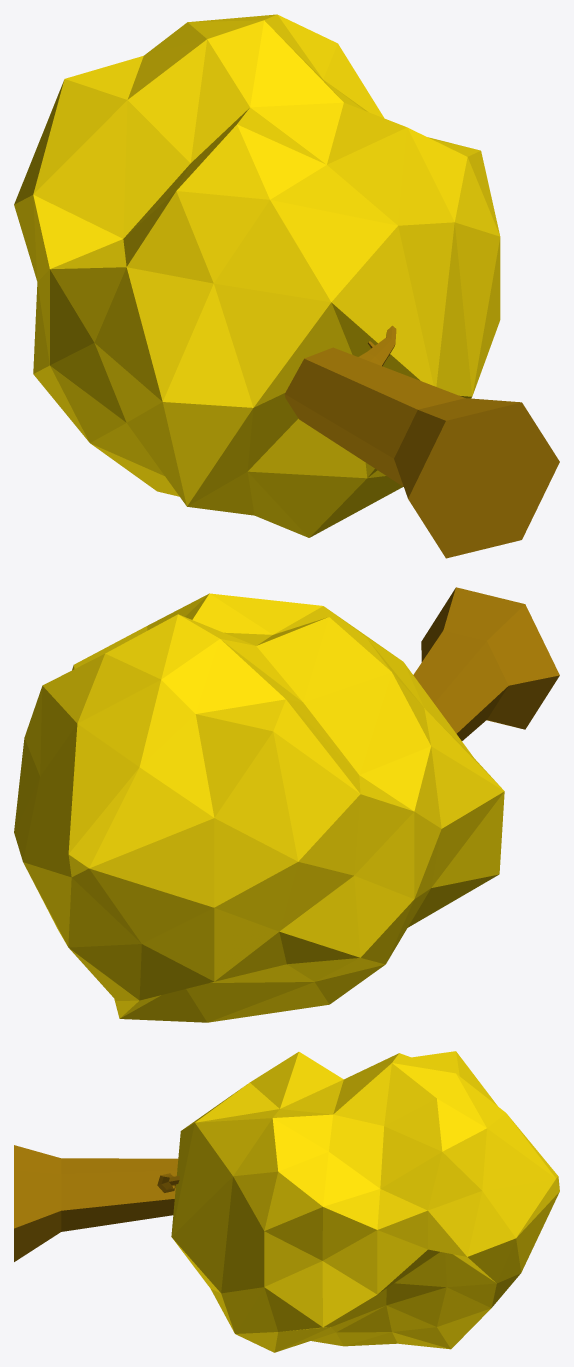
Rendered from tree_05.fbx.
3 views of the same model, one above another, from view 1: azimuth 30°, elevation 25°; view 2: azimuth 150°, elevation 25°; view 3: azimuth 270°, elevation 25° (orthographic). The views are drawn at different scales.
Parts seen in each view (by area): view 1: Mesh60, Mesh59; view 2: Mesh60, Mesh59; view 3: Mesh60, Mesh59.
Boxes of the visible parts, left/top/right/bottom form: Mesh60: left=14, top=14, right=500, bottom=537; Mesh59: left=284, top=325, right=559, bottom=558; Mesh60: left=14, top=593, right=504, bottom=1022; Mesh59: left=413, top=587, right=559, bottom=740; Mesh60: left=171, top=1051, right=559, bottom=1352; Mesh59: left=14, top=1145, right=179, bottom=1261.
Size of the model in its own units: 2271 by 2406 by 3973.
